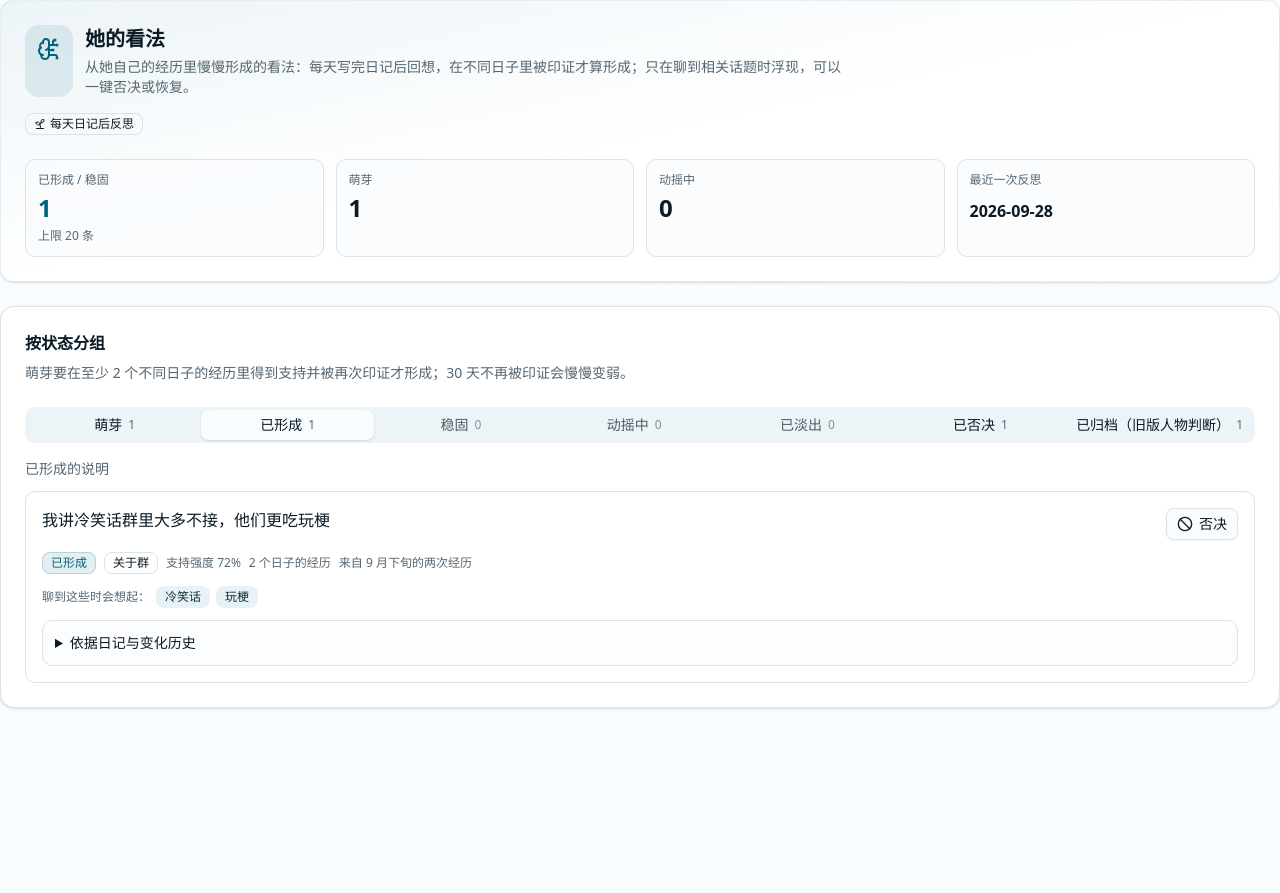
Test case: BeliefsPage 信念 v2 › 展开后显示依据日记与变化历史
Click the heading "依据日记与变化历史" at (133, 642), box [70,633,196,652]
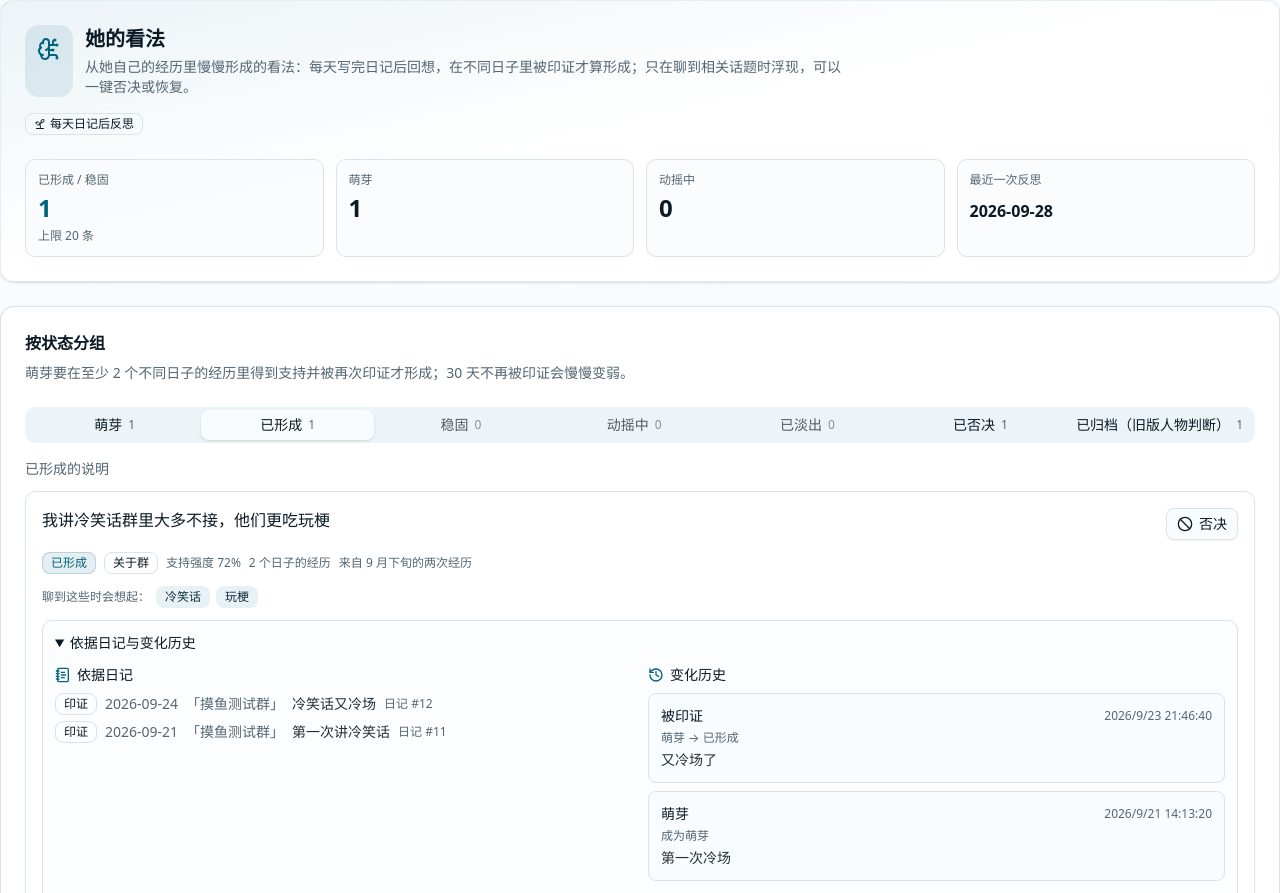
Now the text "冷笑话又冷场" is shown, box [292,694,376,714]
Now the text "日记 #12" is shown, box [384,696,433,712]
Now the text "被印证" is shown, box [661,706,703,726]
